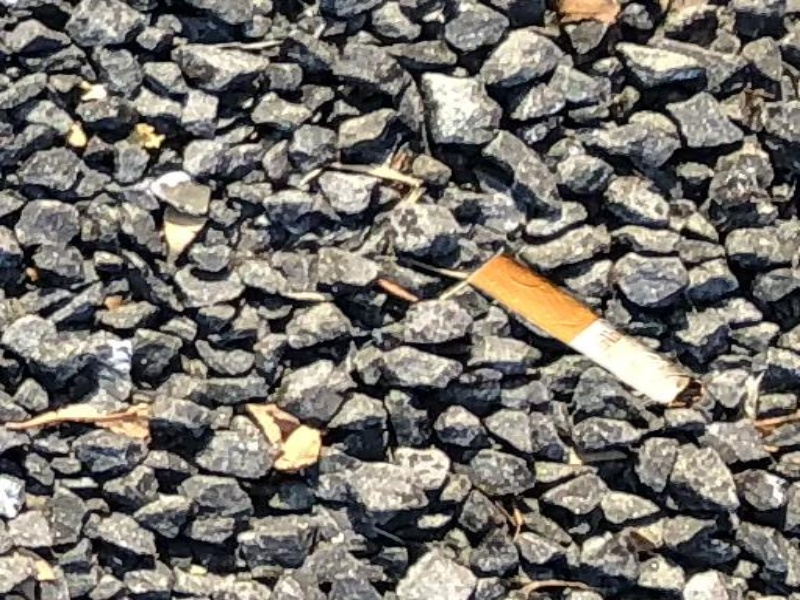cig: (474, 231, 689, 417)
